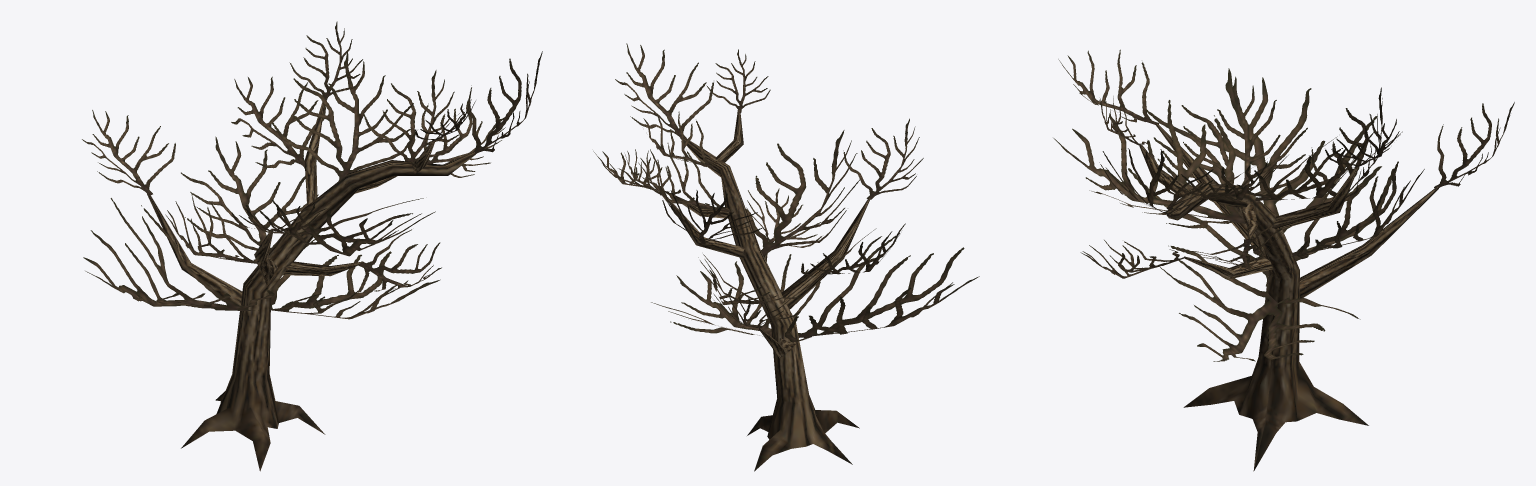
File: tree64.fbx
3 renders of one model, left to right at view 1: azimuth 30°, elevation 25°; view 2: azimuth 150°, elevation 25°; view 3: azimuth 270°, elevation 25°, orthographic. The views are drawn at different scales.
Parts seen in each view (by area): view 1: tree64; view 2: tree64; view 3: tree64.
Boxes of the visible parts, box(x1,y1,x2,y2) form: tree64: box(82, 21, 542, 471); tree64: box(593, 43, 979, 471); tree64: box(1053, 49, 1514, 471).
Size of the model in its own units: 1057 by 889 by 879.
2 materials, 2 textured.
